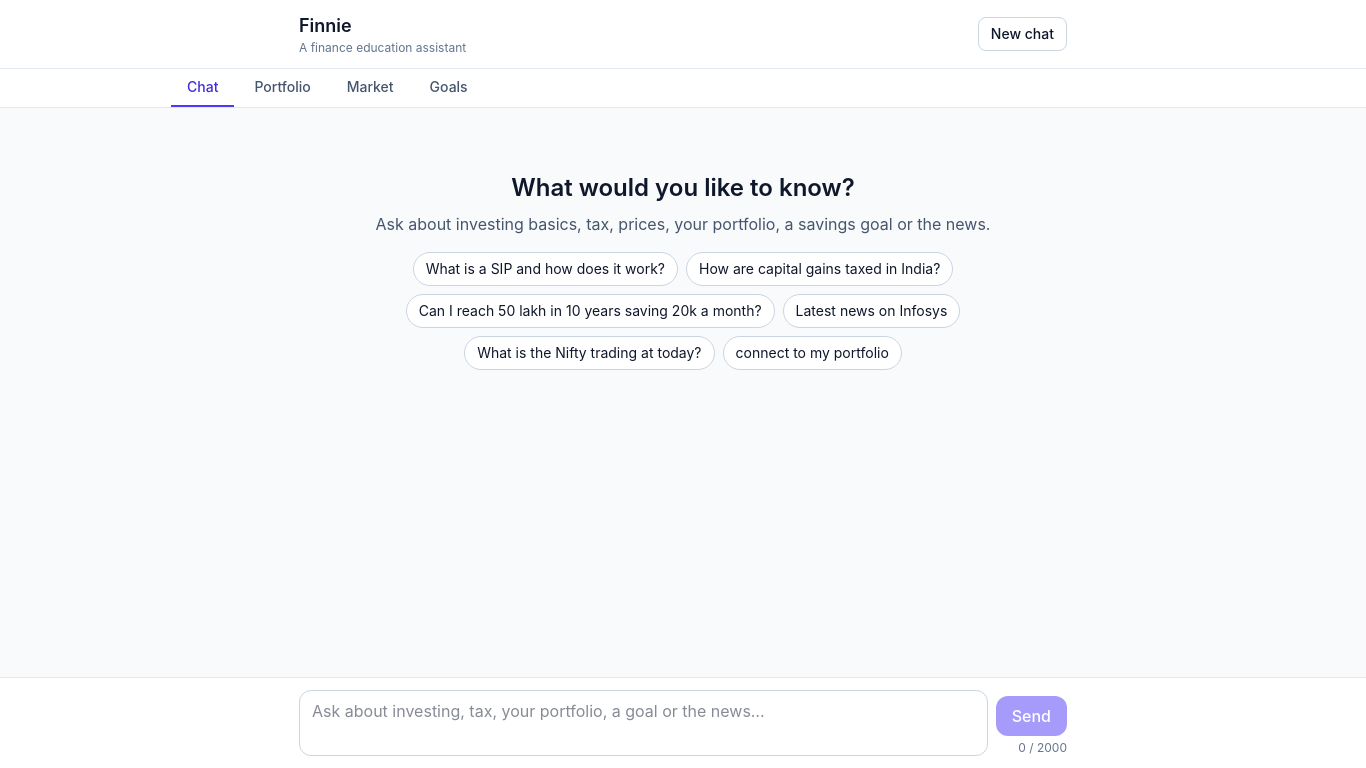
Test: App: the Goals tab › sends the form to the goal agent and draws the plan
Click the tab "Goals": (449, 88) [414,69,484,107]
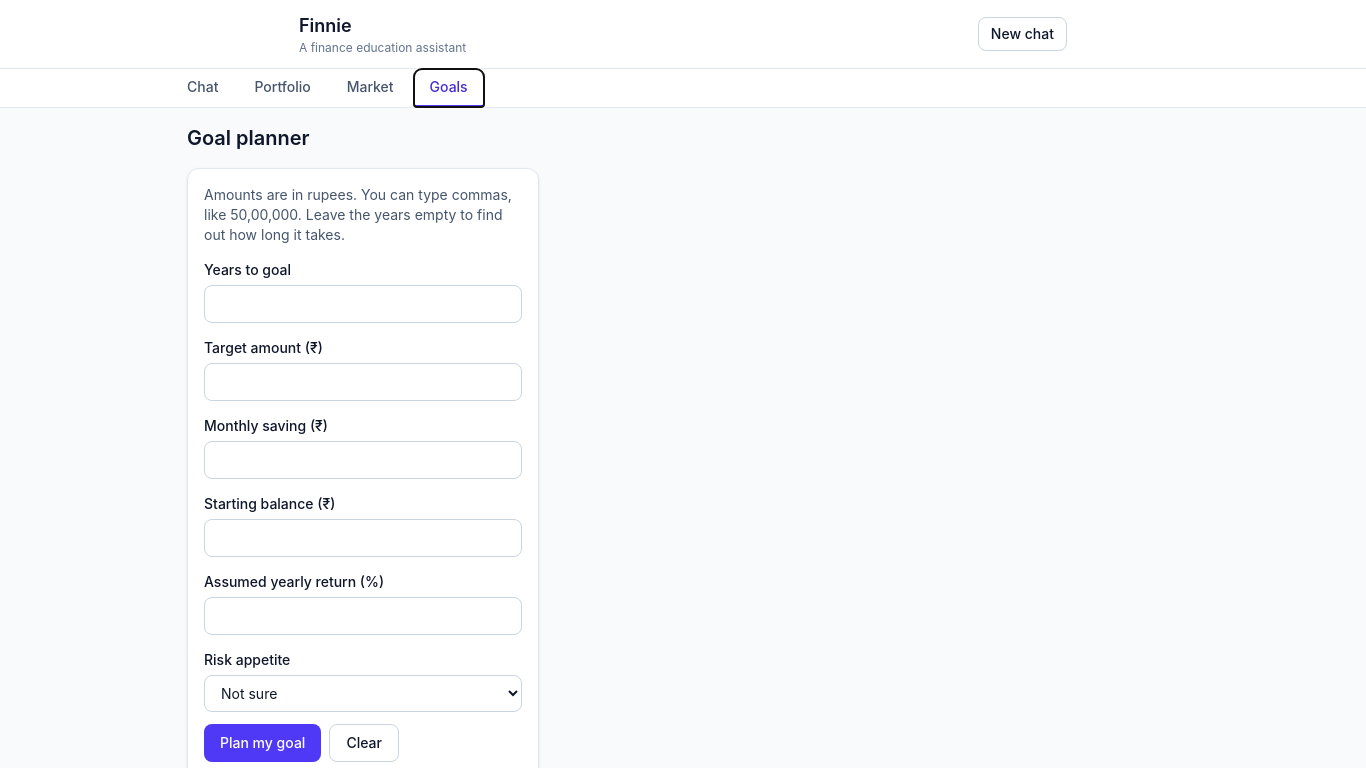
In the field labelled "Years to goal": (363, 304) [204,285,522,323], type "10"
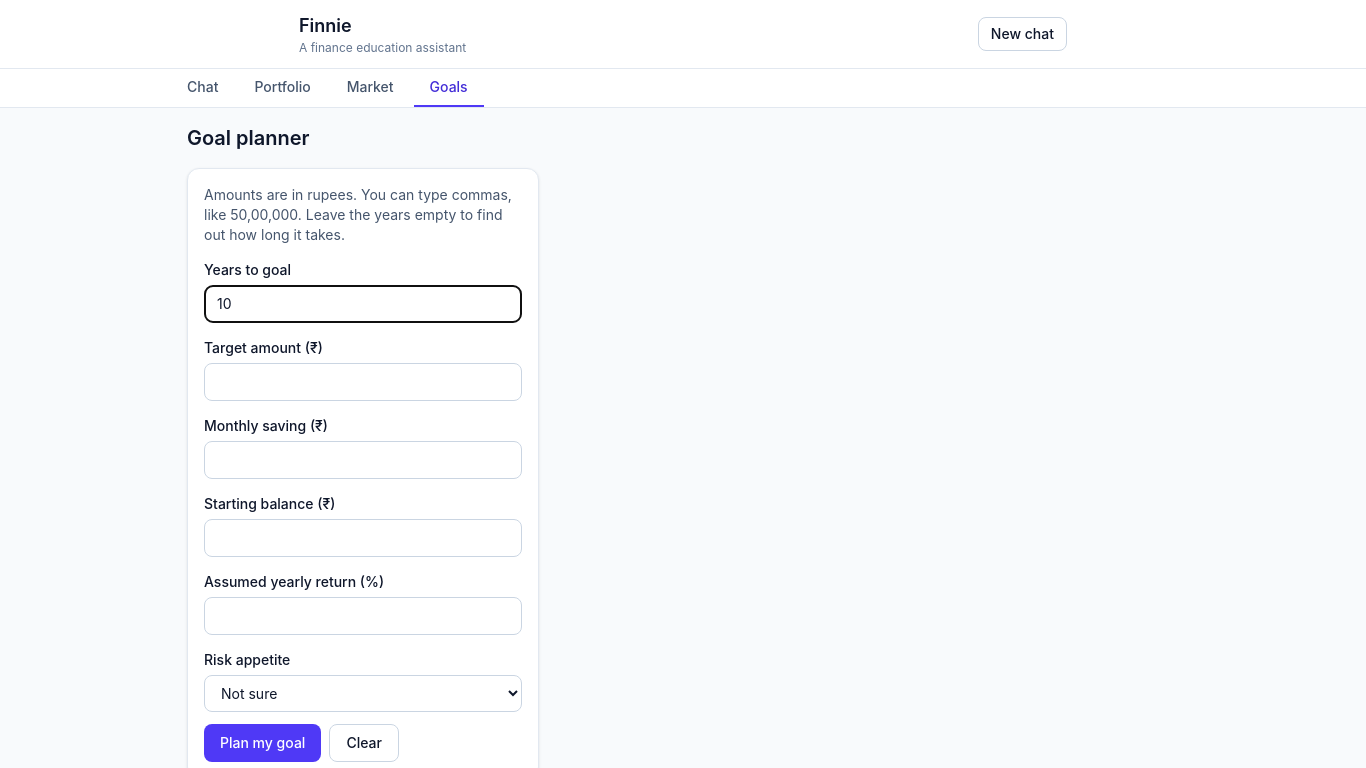
In the field labelled "Monthly saving (₹)": (363, 460) [204,441,522,479], type "20000"
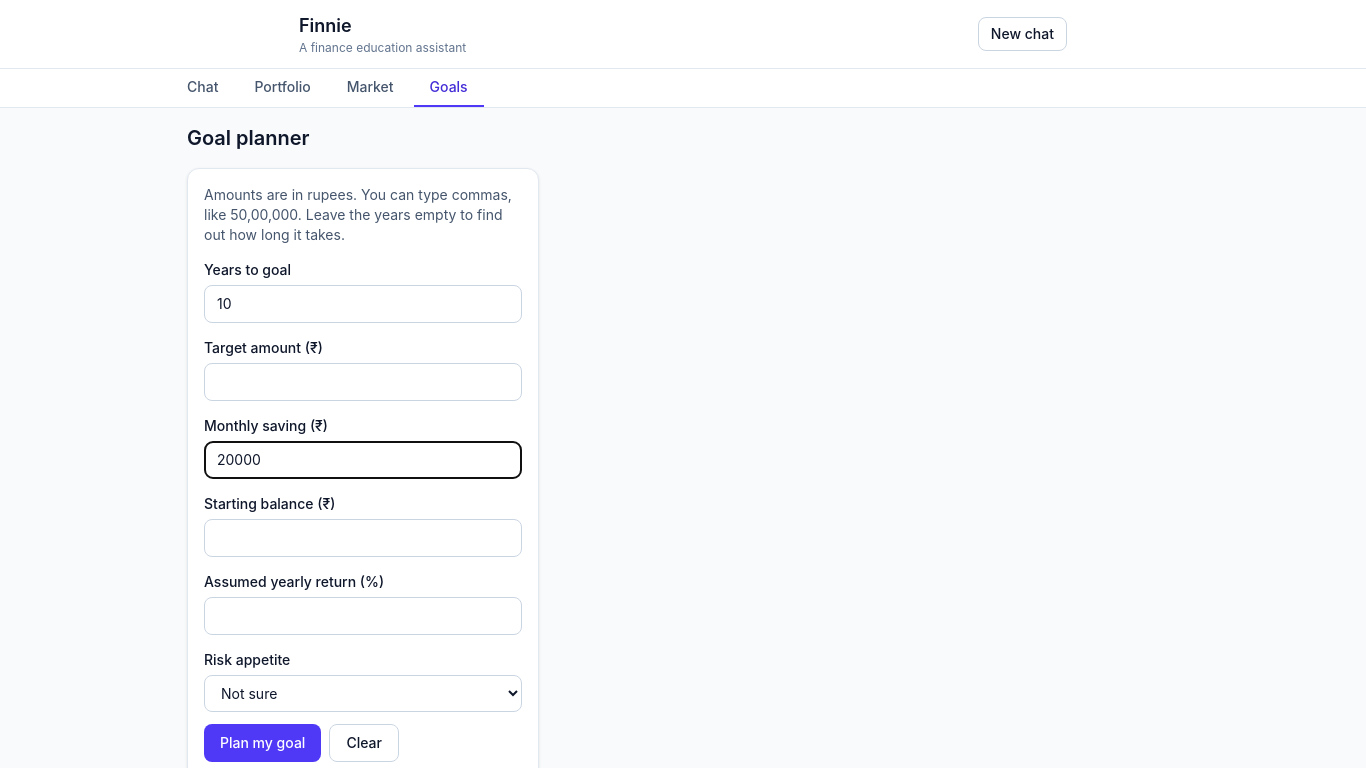
Click the button "Plan my goal": (263, 743) [204,724,321,762]
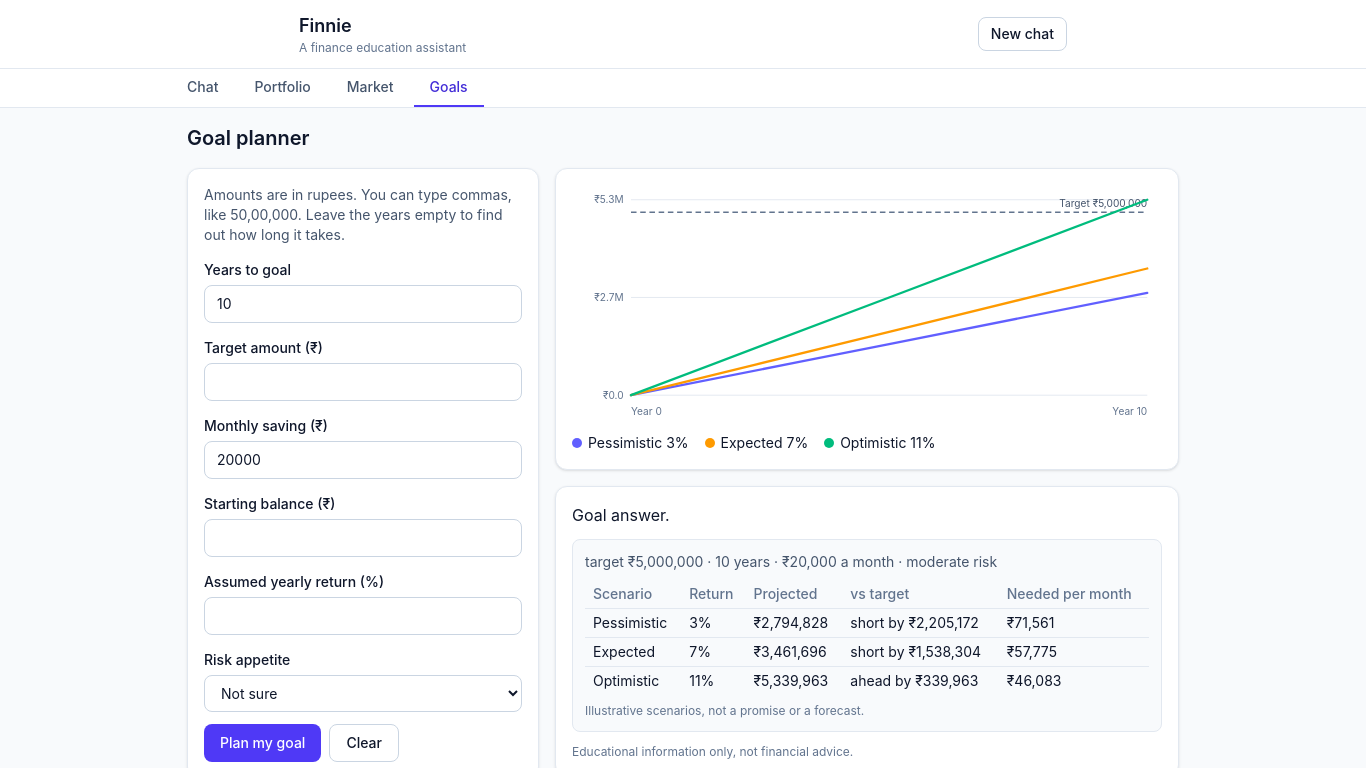
Check: the picture named "projected balance" is shown, box [572,185,1162,425]
